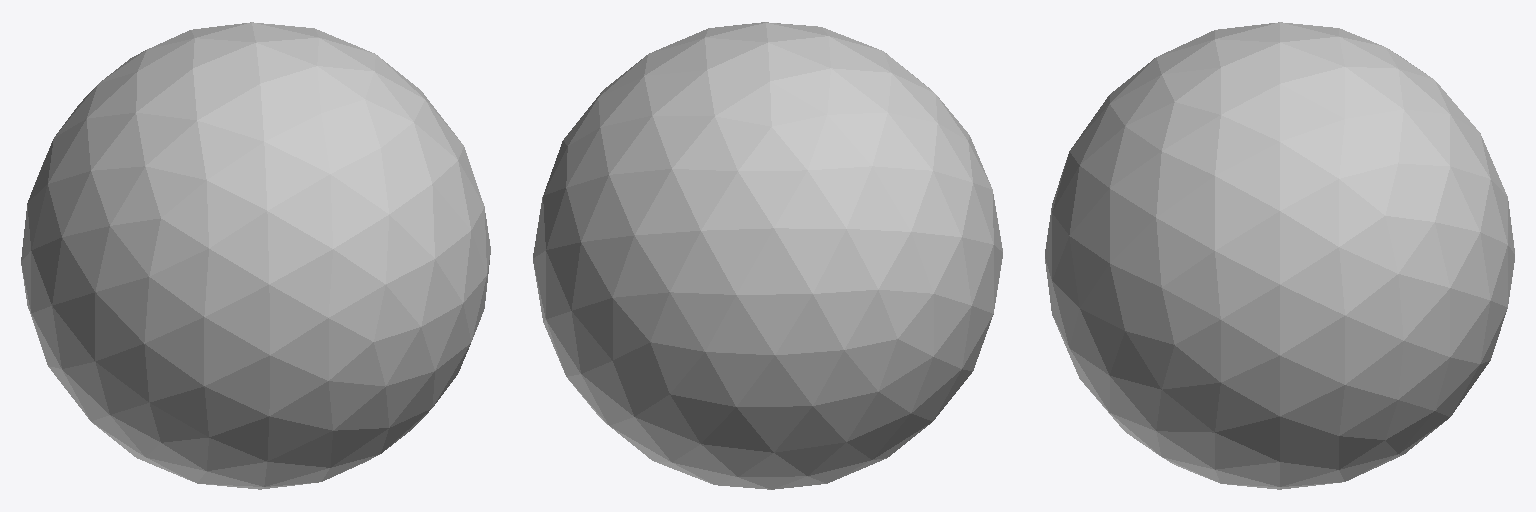
The model's file is matters.obj.
3 views of the same model, side by side, from view 1: azimuth 30°, elevation 25°; view 2: azimuth 150°, elevation 25°; view 3: azimuth 270°, elevation 25° (orthographic).
Bounding box in the file's own units: 278 × 278 × 278.